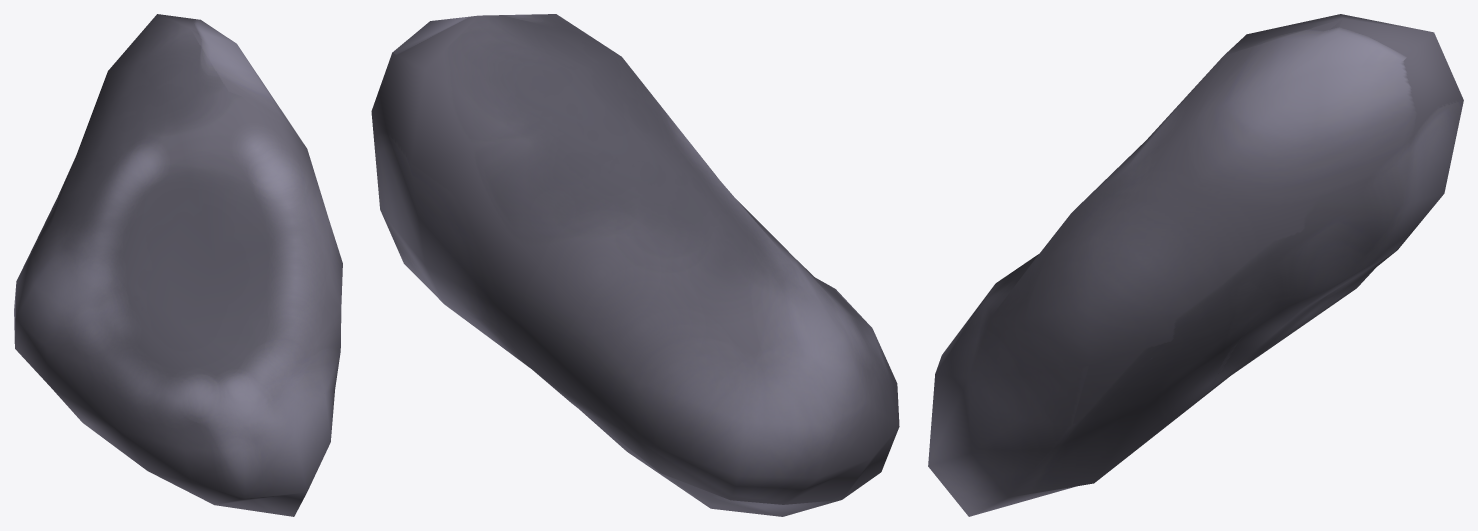
File: asteroide4.fbx
3 views of the same model, side by side, from view 1: azimuth 30°, elevation 25°; view 2: azimuth 150°, elevation 25°; view 3: azimuth 270°, elevation 25° (orthographic). The views are drawn at different scales.
Parts seen in each view (by area): view 1: Asteroide4; view 2: Asteroide4; view 3: Asteroide4.
Part boxes in pixels (box(x1,y1,x2,y2)): Asteroide4: box(14, 14, 342, 516); Asteroide4: box(371, 14, 899, 516); Asteroide4: box(928, 14, 1463, 516).
Size of the model in its own units: 403 by 549 by 512.
Materials: 1 (1 with a texture image).
